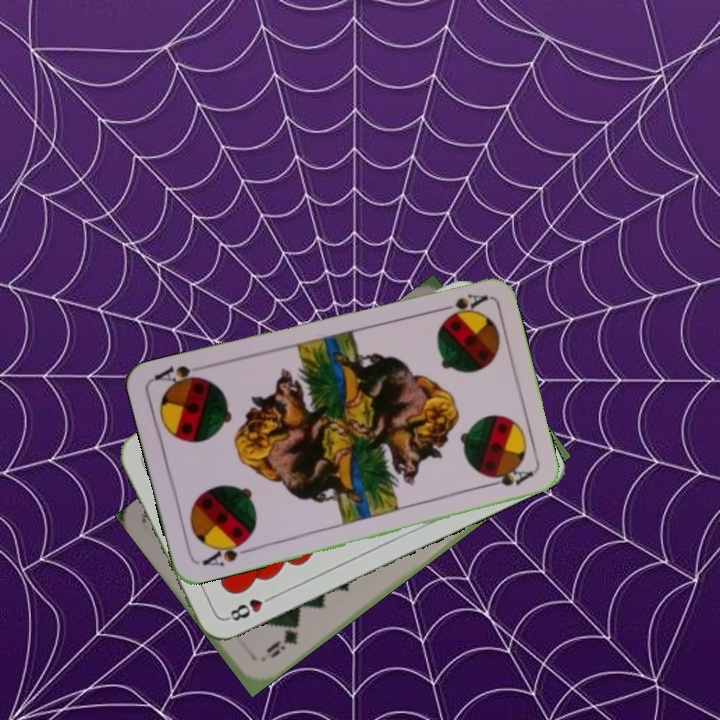G9: (262, 619, 302, 661)
H8: (222, 591, 278, 624)
SA: (198, 535, 254, 569), (431, 289, 490, 321)
